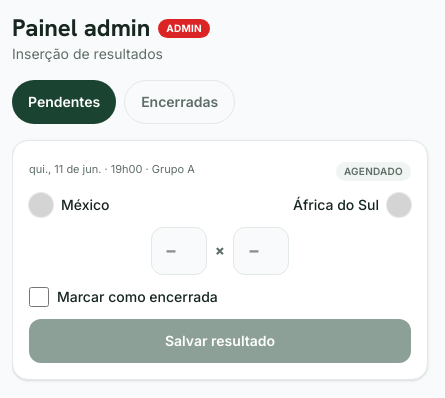
Test: AdminContent — lista e filtro de status › alterna para encerradas ao clicar na aba correspondente
This screenshot has width=445, height=398.
Click the tab "Encerradas".
click(180, 102)  # box [124,80,235,124]
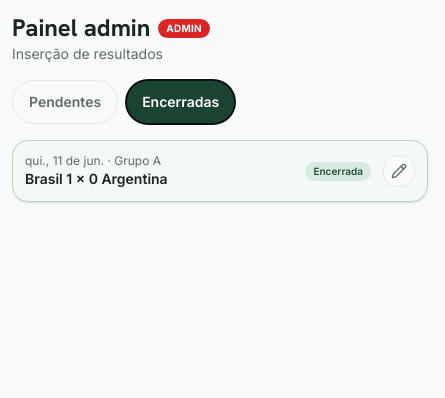
Check: the text "Brasil 1 × 0 Argentina" is shown, box [25,170,168,187]
Check: the picture labelled "Gols de México" is gone
